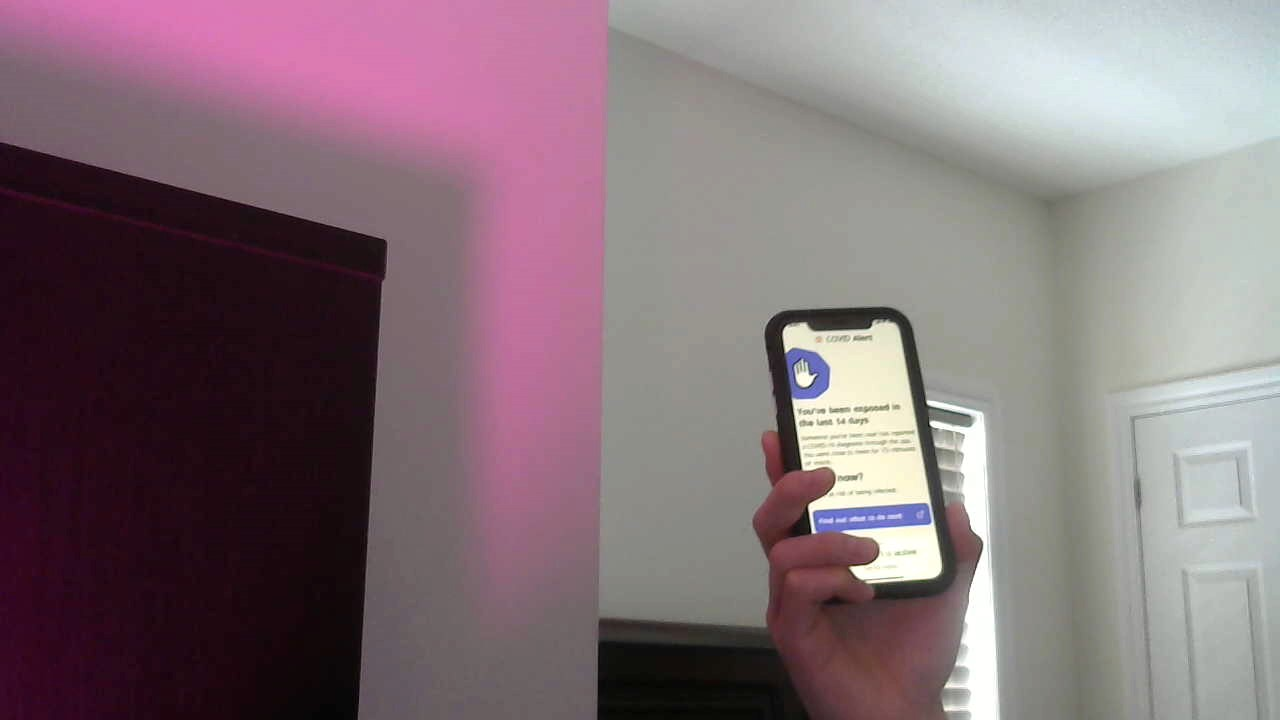Exposed: (784, 344, 930, 430)
